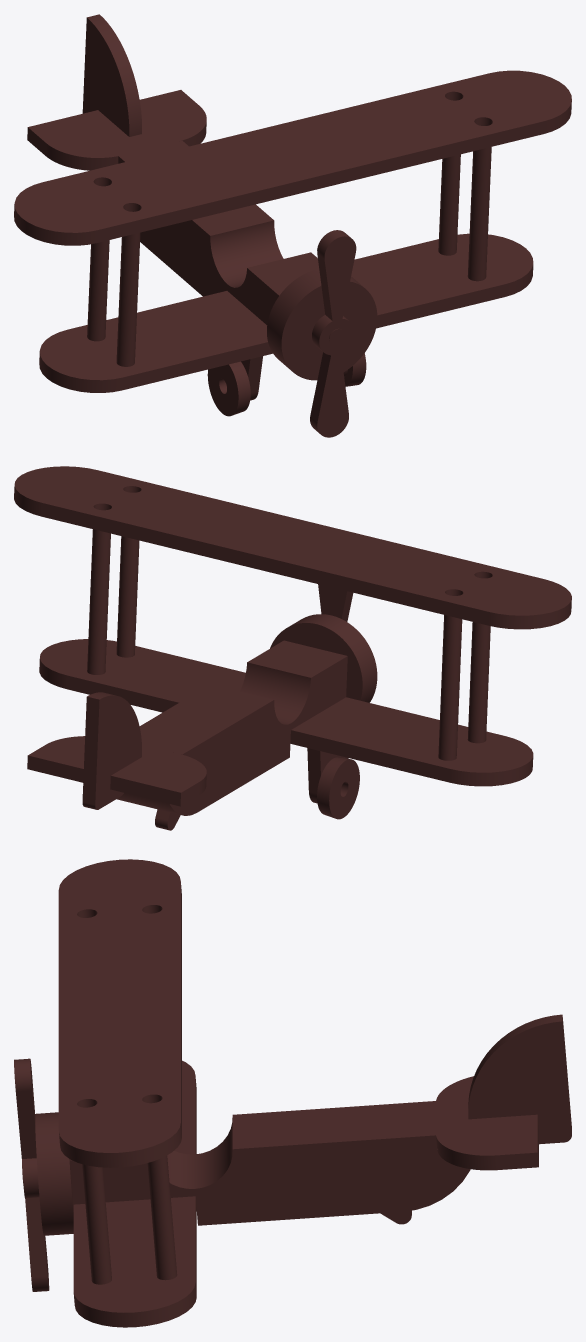
File: toy-plane.glb
3 renders of one model, top to bottom at view 1: azimuth 30°, elevation 25°; view 2: azimuth 150°, elevation 25°; view 3: azimuth 270°, elevation 25°, orthographic. The views are drawn at different scales.
Parts seen in each view (by area): view 1: Body1.007, Body1.008, Body1, Body1.001, Body1.020, Body1.019, Body1.002, Body1.013, Body1.011, Body1.014, Body1.012, Body1.017 (+1 smaller); view 2: Body1.007, Body1.008, Body1, Body1.001, Body1.002, Body1.020, Body1.012, Body1.014, Body1.011, Body1.013, Body1.017, Body1.019 (+1 smaller); view 3: Body1.007, Body1, Body1.008, Body1.002, Body1.001, Body1.019, Body1.020, Body1.012, Body1.011.
Part boxes in pixels (left/top/right/bottom): Body1.007: left=14, top=70, right=571, bottom=245; Body1.008: left=39, top=233, right=533, bottom=392; Body1: left=118, top=140, right=319, bottom=324; Body1.001: left=27, top=90, right=206, bottom=170; Body1.020: left=267, top=269, right=377, bottom=380; Body1.019: left=310, top=230, right=356, bottom=437; Body1.002: left=82, top=14, right=141, bottom=136; Body1.013: left=116, top=232, right=140, bottom=366; Body1.011: left=467, top=147, right=491, bottom=281; Body1.014: left=87, top=240, right=109, bottom=341; Body1.012: left=438, top=154, right=460, bottom=255; Body1.017: left=207, top=361, right=250, bottom=416; Body1.007: left=14, top=466, right=571, bottom=629; Body1.008: left=39, top=639, right=533, bottom=786; Body1: left=116, top=640, right=347, bottom=815; Body1.001: left=27, top=736, right=206, bottom=806; Body1.002: left=82, top=692, right=141, bottom=809; Body1.020: left=270, top=614, right=377, bottom=702; Body1.012: left=87, top=529, right=110, bottom=674; Body1.014: left=438, top=615, right=462, bottom=760; Body1.011: left=116, top=536, right=139, bottom=657; Body1.013: left=467, top=622, right=490, bottom=743; Body1.017: left=317, top=757, right=359, bottom=819; Body1.019: left=318, top=584, right=353, bottom=758; Body1.007: left=58, top=859, right=181, bottom=1167; Body1: left=70, top=1101, right=470, bottom=1225; Body1.008: left=73, top=1060, right=196, bottom=1327; Body1.002: left=468, top=1014, right=571, bottom=1144; Body1.001: left=436, top=1076, right=538, bottom=1170; Body1.019: left=14, top=1058, right=49, bottom=1291; Body1.020: left=35, top=1112, right=73, bottom=1235; Body1.012: left=147, top=1155, right=177, bottom=1280; Body1.011: left=82, top=1164, right=111, bottom=1284.
Size of the model in its own units: 0.0989 by 0.0454 by 0.0796.
